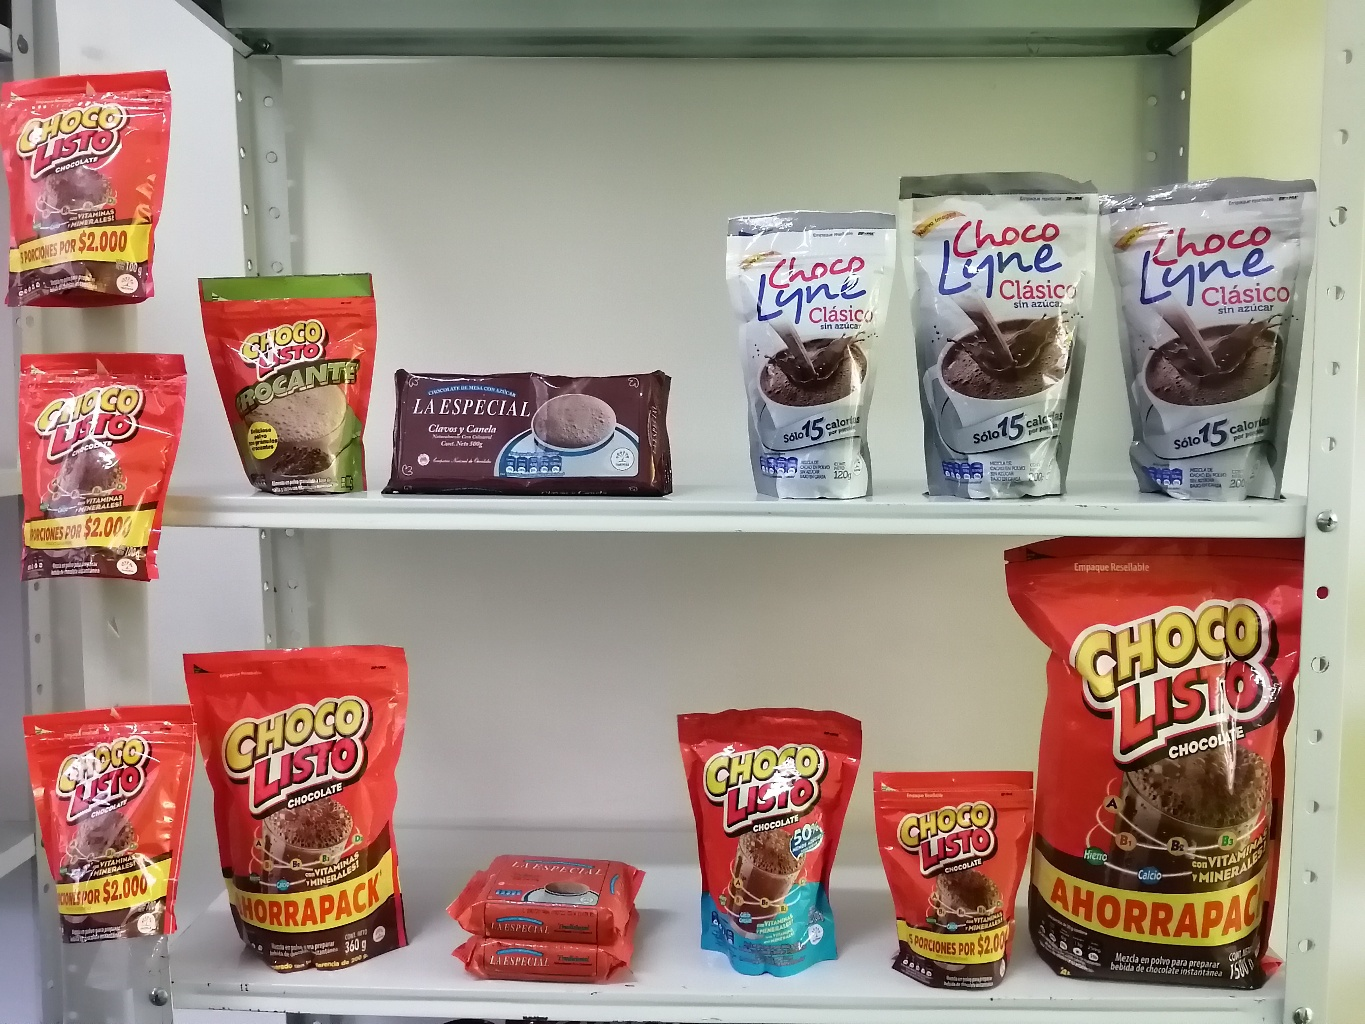COL0170102DYP10000: (200, 262, 376, 515)
COL0170103DYP1,500: (1007, 543, 1316, 996)
COL0170103DYP36000: (191, 635, 436, 964)
COL0170104DYP20000: (689, 667, 855, 973)
